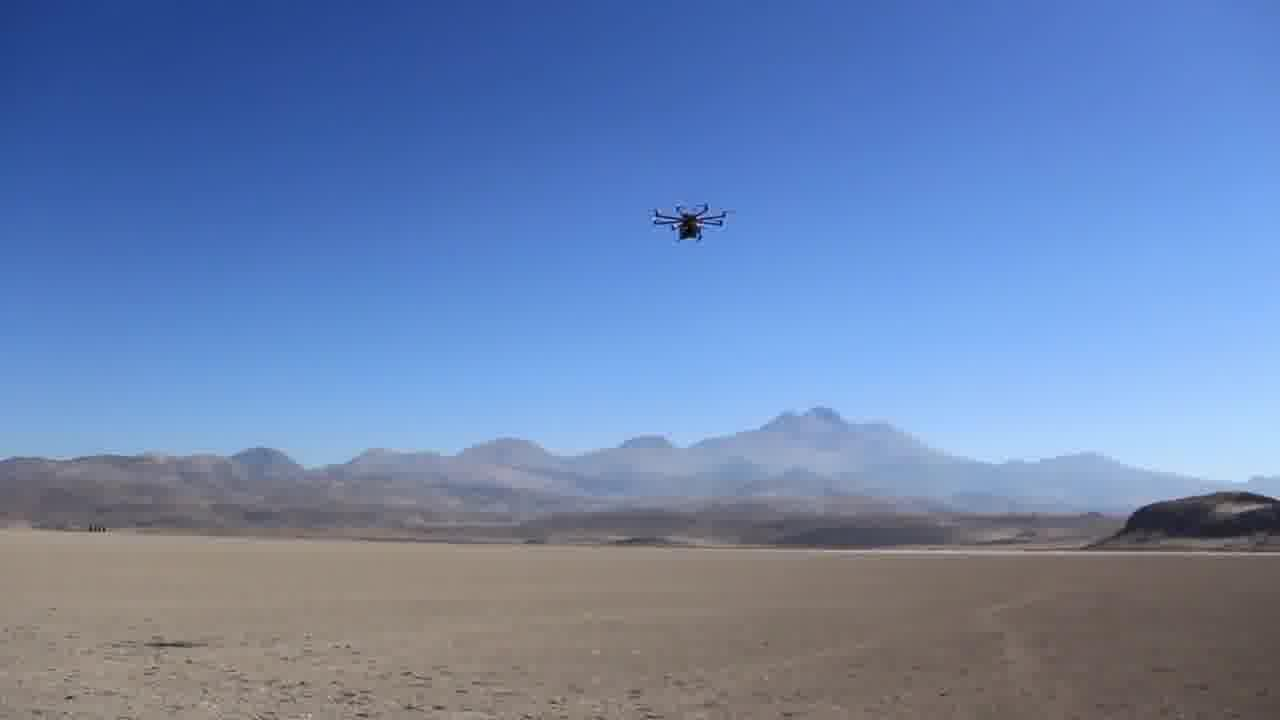drone: (639, 196, 737, 251)
